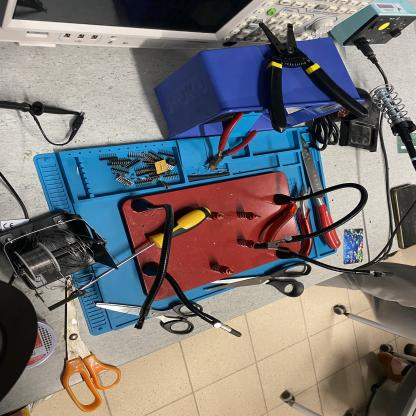Knife: (300, 134, 342, 251)
scissors: (59, 275, 124, 413), (94, 297, 204, 335), (204, 261, 312, 298)
